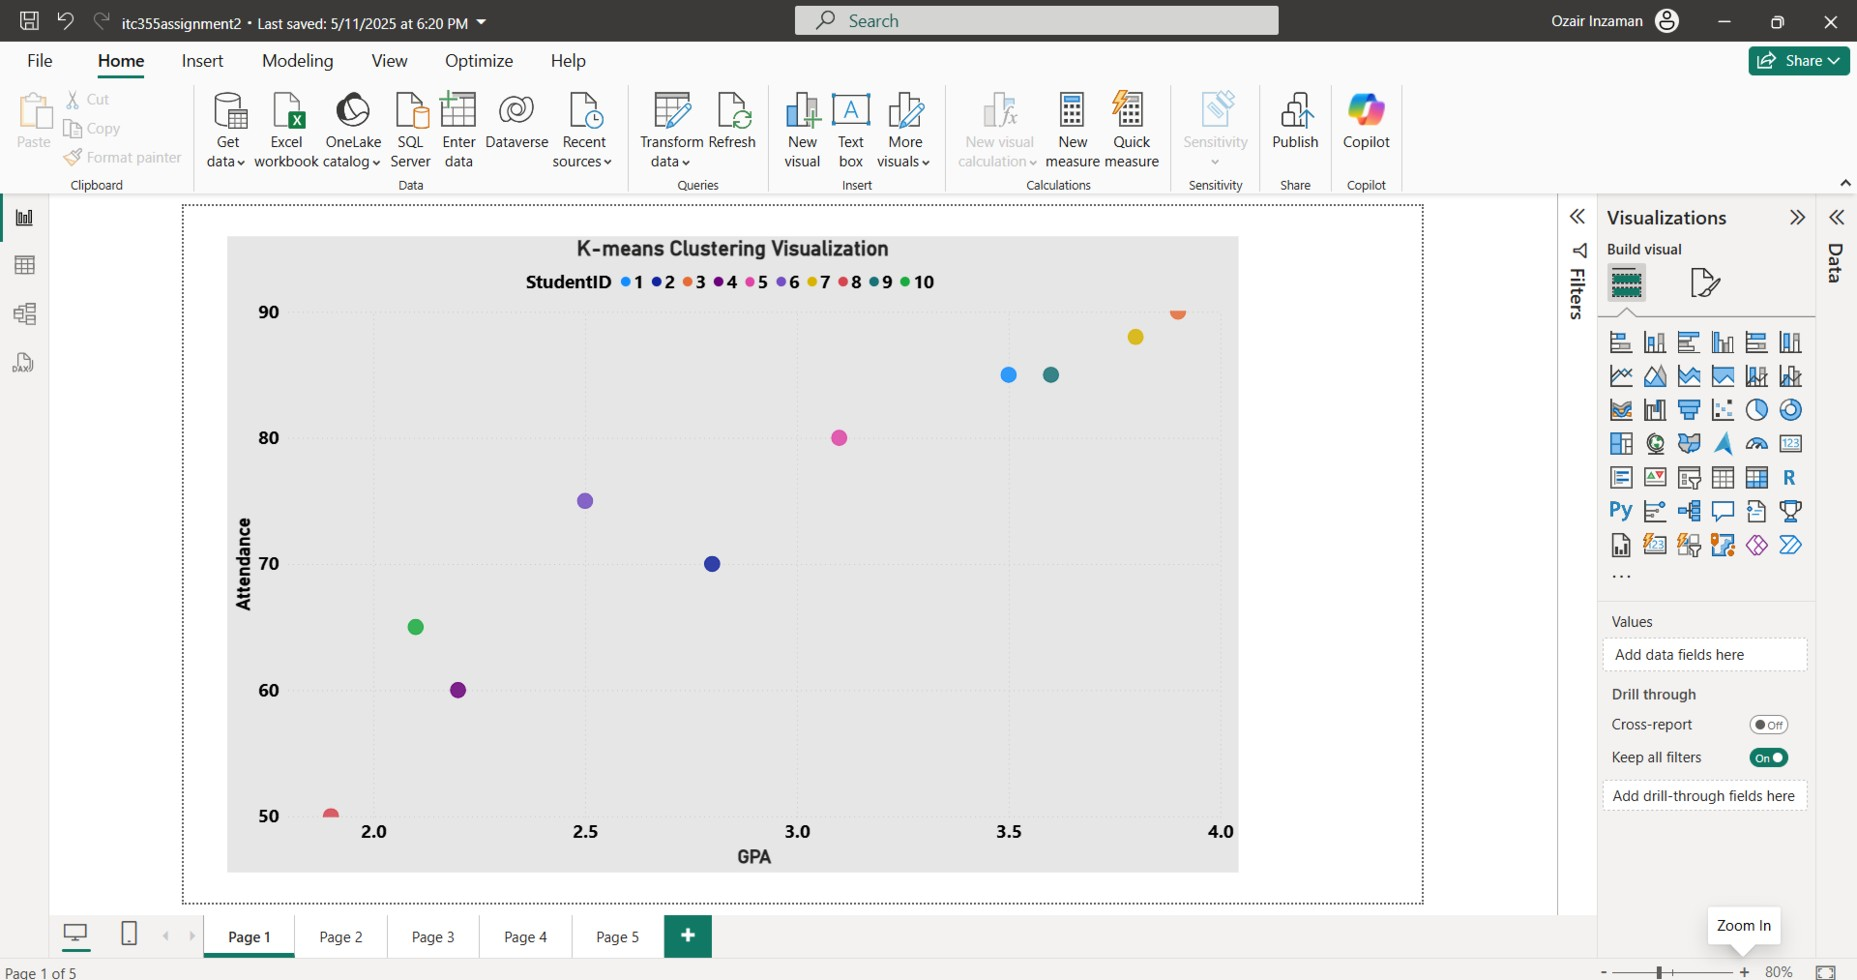

Layout of this report page (visuals, bound fields, positions):
{"tool":"powerbi","page":{"name":"Page 1","canvas":[1280,720],"ordinal":0},"visuals":[{"type":"scatterChart","title":" K-means Clustering Visualization","fields":{"X":["student_performance (2).GPA"],"Series":["student_performance (2).StudentID"],"Y":["student_performance (2).Attendance"]},"box":[45.3,31.6,1045.6,657.3],"z":0}]}

Visuals, with their boxes on the page's 1280x720 design canvas (x1, y1, x2, y2). These are canvas units, not pixel positions in the 1857x980 screenshot, which may show the page scaled, cropped or inside an application window:
" K-means Clustering Visualization" scatterChart: rect(45, 32, 1091, 689)
